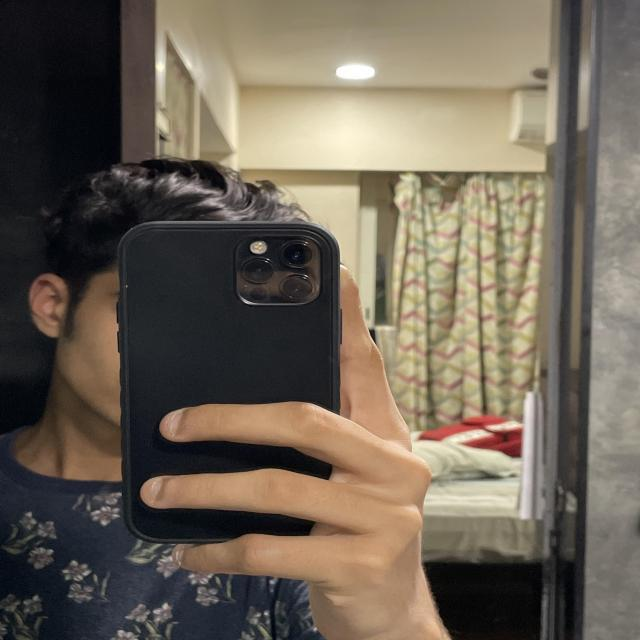phone: (116, 220, 342, 542)
